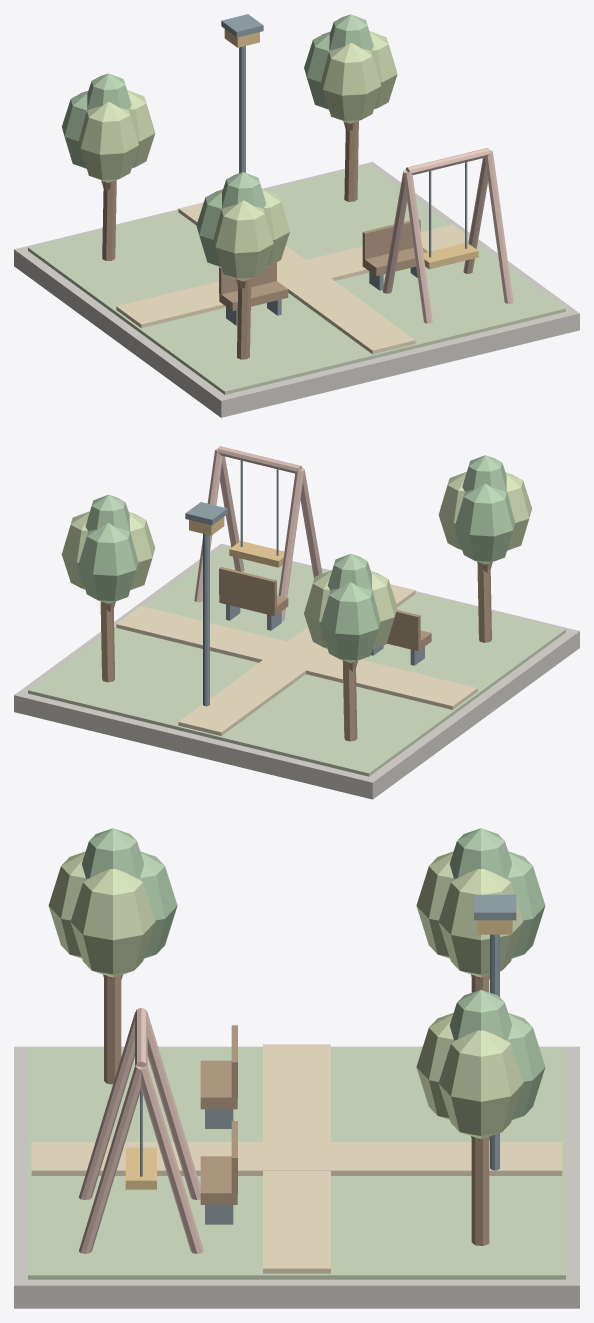
Rendered from dot-tpl-park-2.glb.
The picture shows the model from 3 angles, top to bottom: view 1: azimuth 30°, elevation 25°; view 2: azimuth 150°, elevation 25°; view 3: azimuth 270°, elevation 25°; orthographic projection. The views are drawn at different scales.
Visible parts, largest first — view 1: paving; view 2: paving; view 3: paving.
Part boxes in pixels (x1,y1,x2,y2): paving: (14, 14, 579, 417); paving: (14, 446, 579, 799); paving: (14, 828, 579, 1308).
Bounding box in the file's own units: 4 × 2.32 × 4.
1 material, 1 textured.
